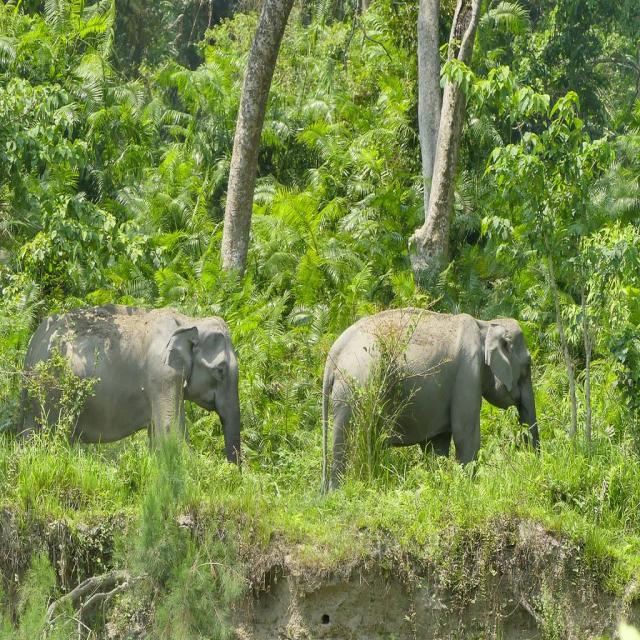Elephant: (323, 305, 543, 494), (22, 303, 245, 481)
